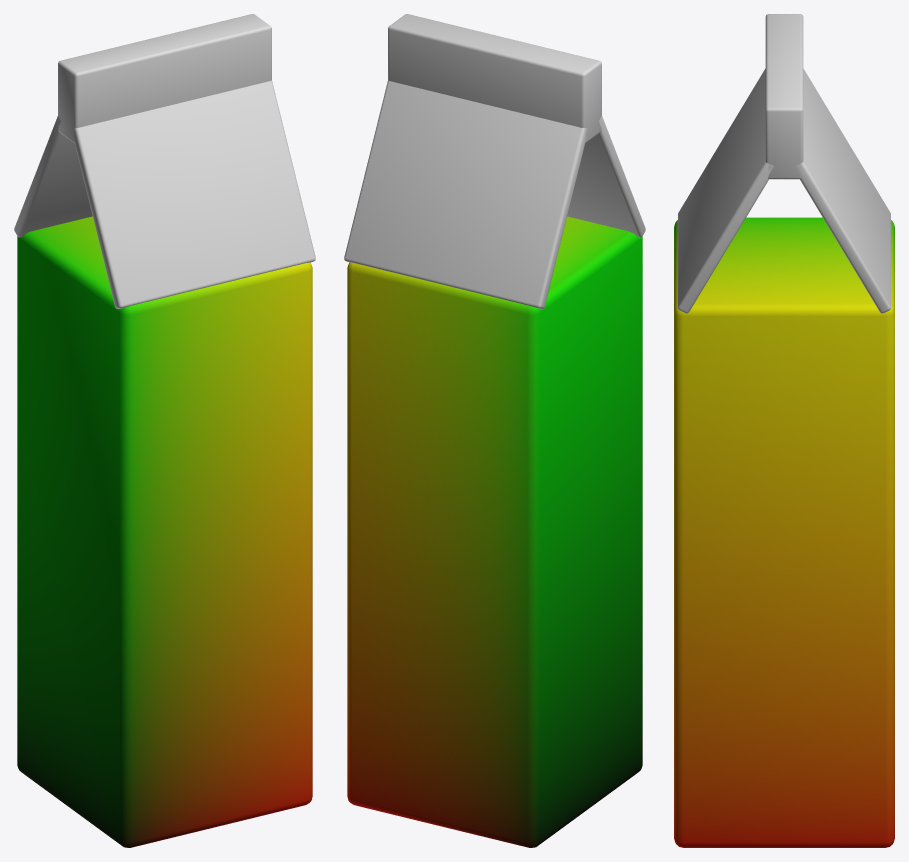
File: milk_carton.glb
3 renders of one model, left to right at view 1: azimuth 30°, elevation 25°; view 2: azimuth 150°, elevation 25°; view 3: azimuth 270°, elevation 25°, orthographic.
Parts seen in each view (by area): view 1: milk_carton; view 2: milk_carton; view 3: milk_carton.
Boxes of the visible parts, left/top/right/bottom form: milk_carton: left=14, top=14, right=315, bottom=847; milk_carton: left=344, top=14, right=645, bottom=847; milk_carton: left=674, top=14, right=894, bottom=847.
Bounding box in the file's own units: 0.072 × 0.26 × 0.07.
